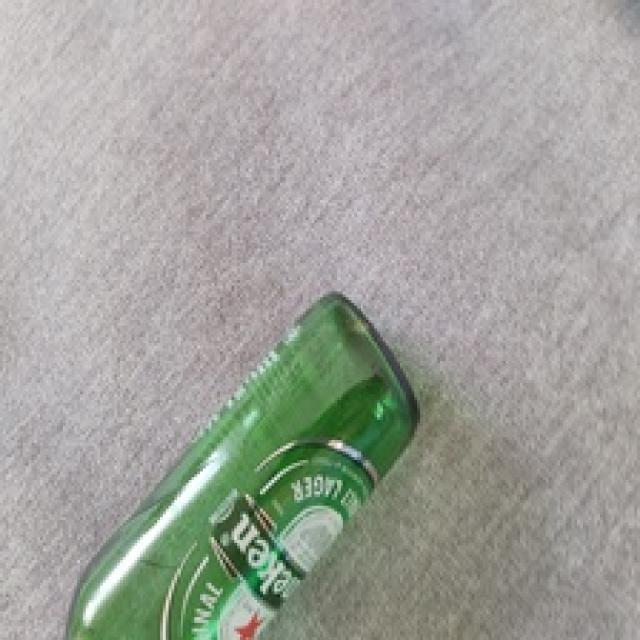Glass: (61, 291, 423, 640)
